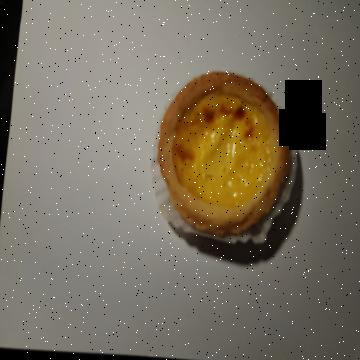EggTart: (159, 72, 289, 236)
